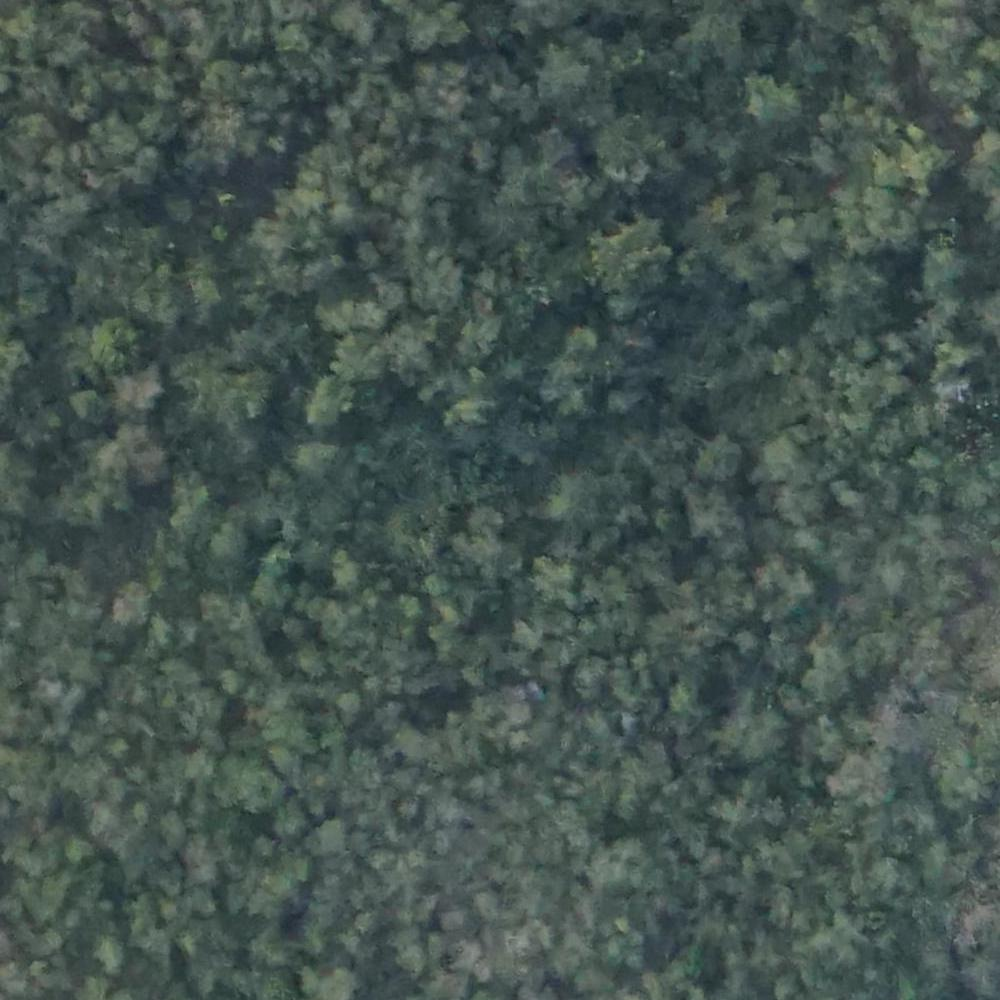tree: (589, 223, 667, 295), (759, 437, 822, 513), (875, 124, 945, 192), (601, 104, 657, 181), (380, 321, 438, 385), (549, 478, 616, 533), (544, 355, 601, 419), (544, 54, 610, 109), (298, 369, 356, 428), (719, 696, 776, 756), (593, 835, 655, 890), (831, 754, 901, 801), (688, 485, 753, 535), (246, 873, 301, 929), (261, 706, 313, 763), (206, 512, 253, 574), (166, 477, 212, 536), (415, 256, 465, 310), (811, 641, 853, 703), (88, 324, 141, 372), (749, 72, 802, 118), (283, 171, 330, 221), (107, 430, 153, 481), (333, 334, 380, 382), (525, 552, 569, 601), (200, 60, 245, 107), (232, 770, 281, 813), (111, 585, 153, 630), (64, 754, 102, 802), (93, 112, 136, 154), (307, 818, 349, 857), (348, 236, 391, 273), (312, 600, 353, 637), (565, 319, 601, 359), (879, 556, 913, 598), (466, 136, 503, 174), (751, 296, 788, 331), (390, 945, 428, 979), (764, 344, 801, 376), (153, 809, 189, 840), (571, 661, 604, 694), (328, 555, 360, 585), (454, 936, 486, 966), (214, 660, 243, 692), (337, 689, 362, 720), (393, 797, 415, 821)
